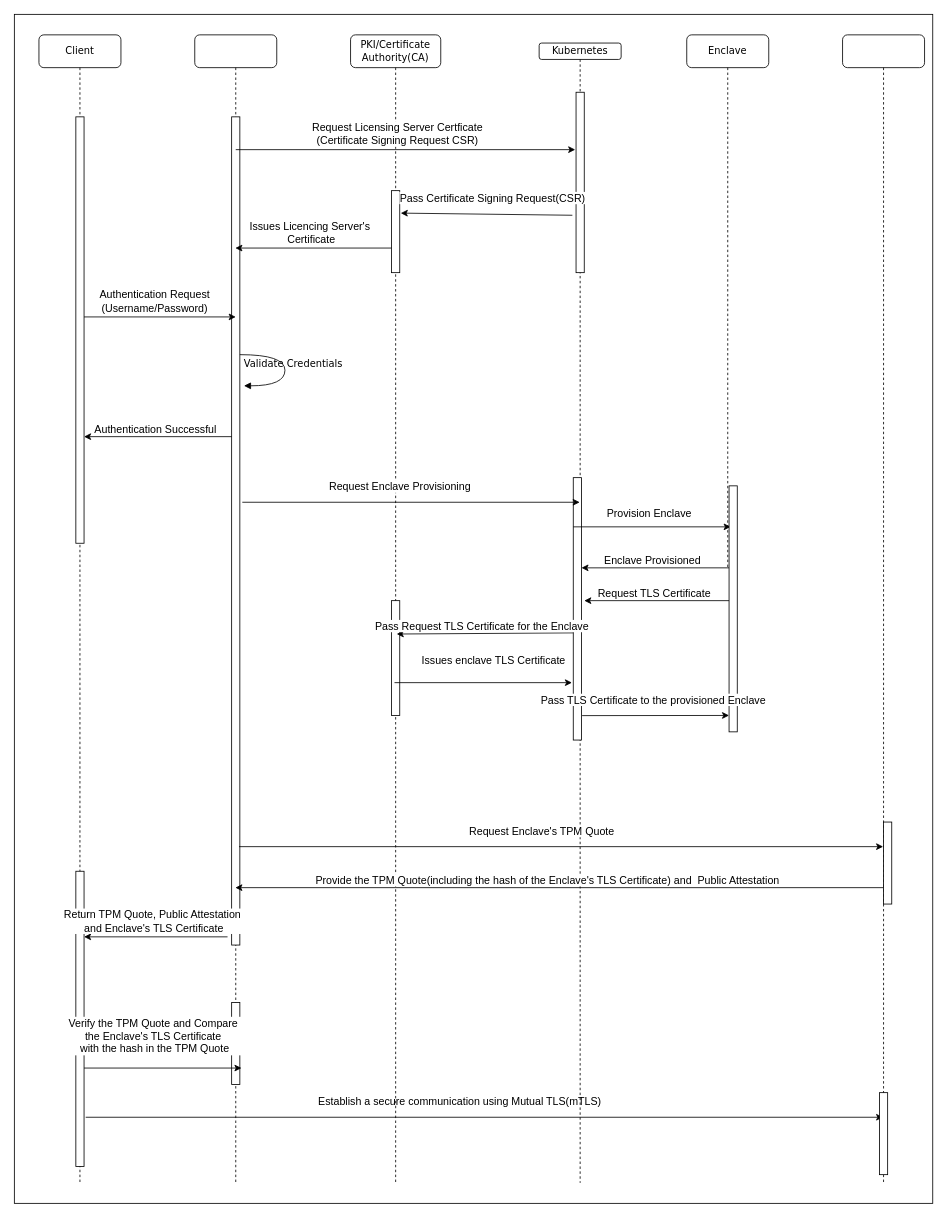
Image size: 947x1218. Some labels were removed from this diagram. The shapes that lost their labels are listed below. From the top down, each one's box as (x1, y1, x2, y2) in pixels, then its label:
(194, 34, 277, 1183): Licencing Server
(842, 34, 925, 1183): TPM
